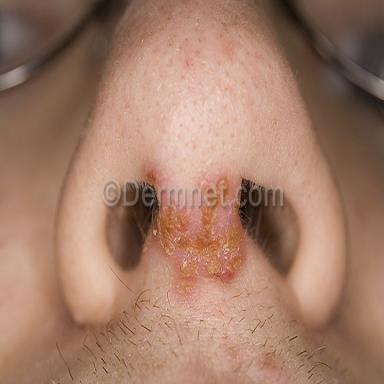Impetigo: (154, 209, 245, 295)
